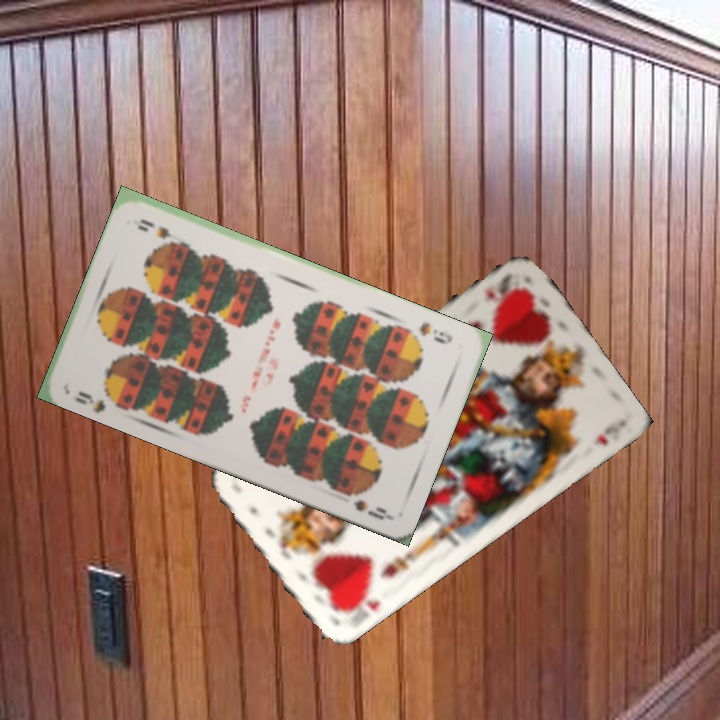HK: (337, 585, 383, 620), (480, 268, 515, 305)
S9: (415, 318, 456, 347), (70, 387, 109, 415)
